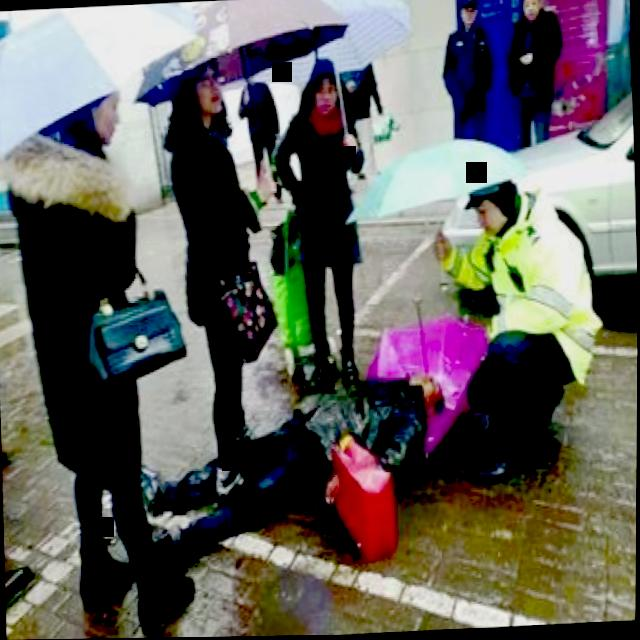Fall-Detected: (125, 341, 465, 575)
